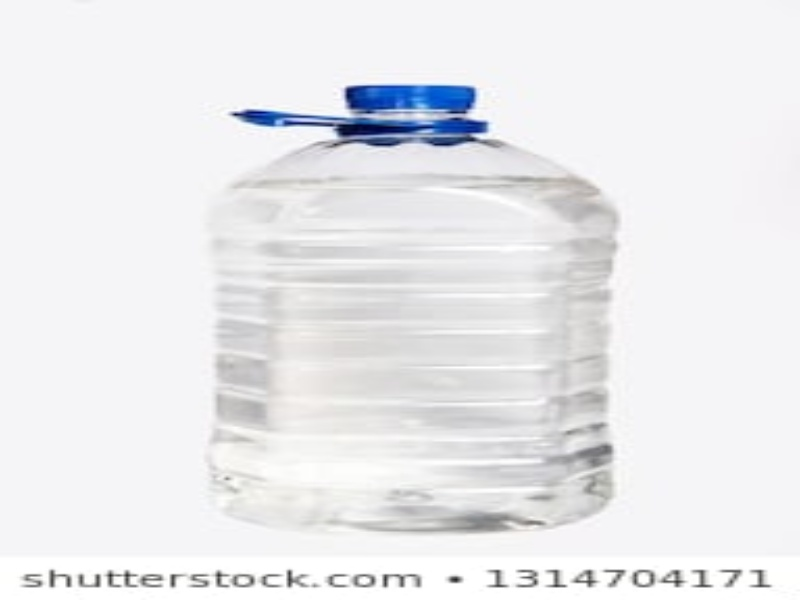bottle-cap: (336, 84, 480, 119)
plastic-bottle: (207, 80, 624, 530)
